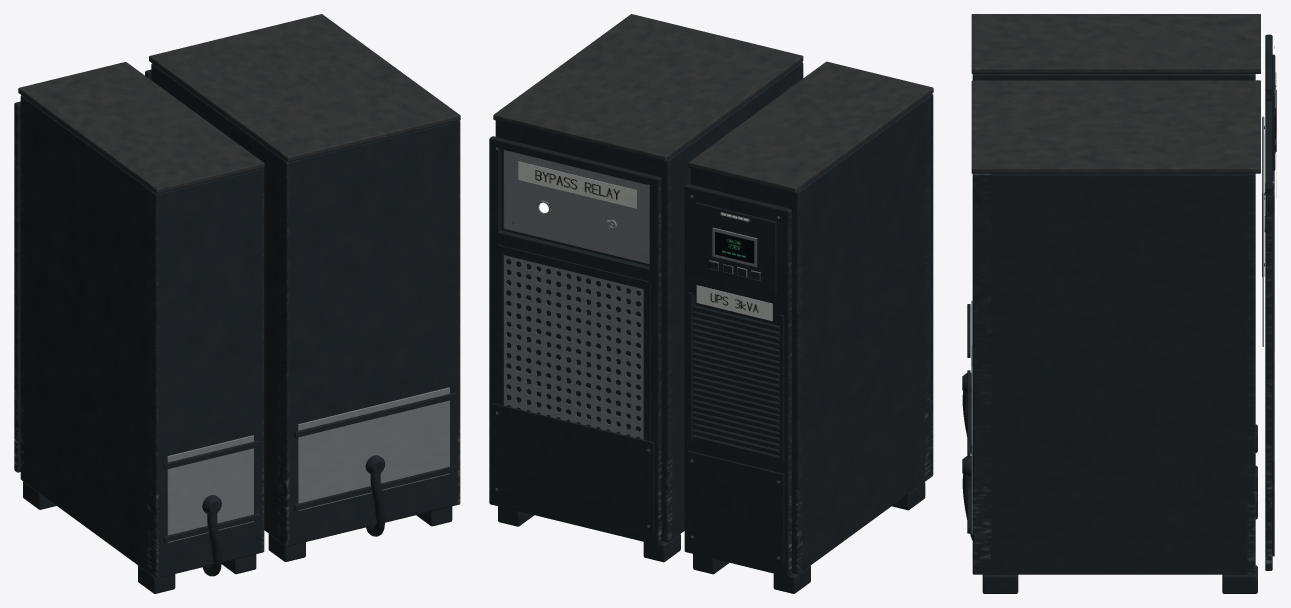
Rendered from ups_tower.glb.
The picture shows the model from 3 angles, left to right: view 1: azimuth 30°, elevation 25°; view 2: azimuth 150°, elevation 25°; view 3: azimuth 270°, elevation 25°; orthographic projection. The views are drawn at different scales.
Visible parts, largest first — view 1: body; view 2: body, screen; view 3: body.
Boxes of the visible parts, bbox=[...] form: body: bbox=[14, 14, 460, 593]; body: bbox=[489, 14, 933, 593]; screen: bbox=[715, 232, 754, 263]; body: bbox=[962, 14, 1276, 593].
Bounding box in the file's own units: 0.7 × 0.9 × 0.6.
Materials: 5 (4 with a texture image).
